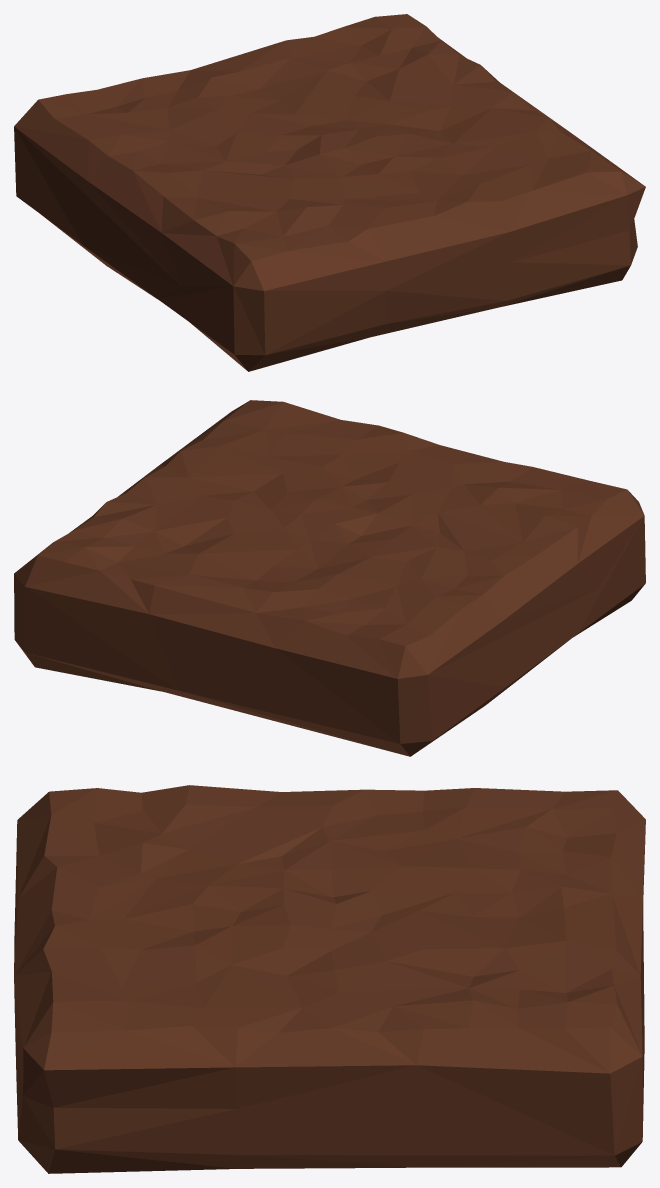
Rendered from dirt_patch_4.glb.
3 views of the same model, one above another, from view 1: azimuth 30°, elevation 25°; view 2: azimuth 150°, elevation 25°; view 3: azimuth 270°, elevation 25° (orthographic). The views are drawn at different scales.
Parts seen in each view (by area): view 1: Cube.003; view 2: Cube.003; view 3: Cube.003.
Part boxes in pixels (x1,y1,x2,y2): Cube.003: [14, 14, 645, 371]; Cube.003: [14, 400, 645, 756]; Cube.003: [14, 785, 645, 1173].
Bounding box in the file's own units: 2.03 × 0.5402 × 2.03.
